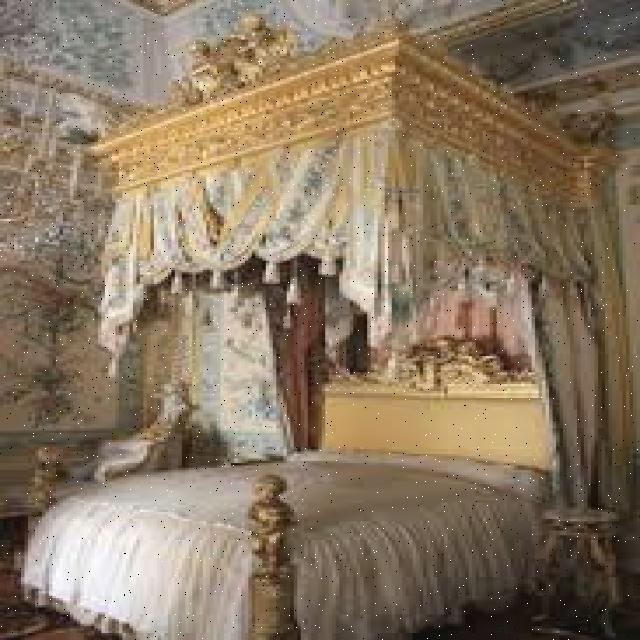bed: (34, 413, 538, 635)
